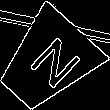N_SW: (15, 31, 79, 95)
